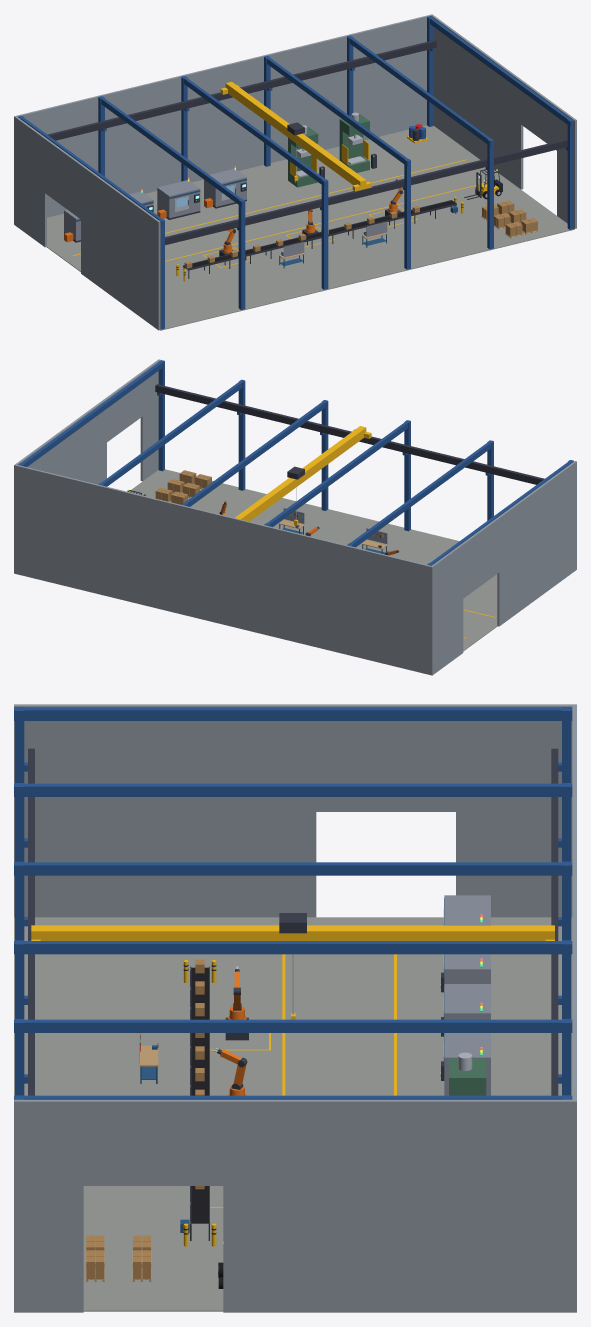
The model's file is ind-002.glb.
3 views of the same model, one above another, from view 1: azimuth 30°, elevation 25°; view 2: azimuth 150°, elevation 25°; view 3: azimuth 270°, elevation 25° (orthographic). The views are drawn at different scales.
Visible parts, largest first — view 1: hangar_cladding, plant_floor, frame_blue, dark_steel, safety_yellow, locker_grey, machine_green, cardboard, conveyor_belt, steel, robot_orange, machine_blue; view 2: hangar_cladding, frame_blue, plant_floor, dark_steel, safety_yellow, cardboard; view 3: hangar_cladding, plant_floor, frame_blue, safety_yellow, dark_steel, locker_grey, cardboard, conveyor_belt, machine_green, robot_orange.
Boxes of the visible parts, x1=… form: hangar_cladding: x1=14, y1=14, x2=576, y2=330; plant_floor: x1=47, y1=125, x2=574, y2=330; frame_blue: x1=18, y1=16, x2=573, y2=329; dark_steel: x1=47, y1=40, x2=567, y2=278; safety_yellow: x1=73, y1=81, x2=498, y2=281; locker_grey: x1=64, y1=168, x2=387, y2=257; machine_green: x1=288, y1=114, x2=369, y2=187; cardboard: x1=184, y1=200, x2=537, y2=268; conveyor_belt: x1=183, y1=200, x2=455, y2=269; steel: x1=174, y1=112, x2=500, y2=212; robot_orange: x1=64, y1=188, x2=401, y2=253; machine_blue: x1=76, y1=178, x2=457, y2=268; hangar_cladding: x1=14, y1=359, x2=576, y2=675; frame_blue: x1=18, y1=360, x2=573, y2=565; plant_floor: x1=129, y1=469, x2=497, y2=651; dark_steel: x1=127, y1=384, x2=544, y2=555; safety_yellow: x1=235, y1=426, x2=495, y2=638; cardboard: x1=155, y1=470, x2=211, y2=504; hangar_cladding: x1=14, y1=704, x2=576, y2=1312; plant_floor: x1=14, y1=917, x2=572, y2=1311; frame_blue: x1=14, y1=707, x2=572, y2=1099; safety_yellow: x1=31, y1=925, x2=554, y2=1246; dark_steel: x1=28, y1=748, x2=558, y2=1240; locker_grey: x1=139, y1=895, x2=490, y2=1095; cardboard: x1=86, y1=959, x2=204, y2=1278; conveyor_belt: x1=191, y1=967, x2=208, y2=1223; machine_green: x1=449, y1=1058, x2=486, y2=1095; robot_orange: x1=220, y1=971, x2=246, y2=1095.
Bounding box in the file's own units: 40.4 × 10.06 × 24.2.
